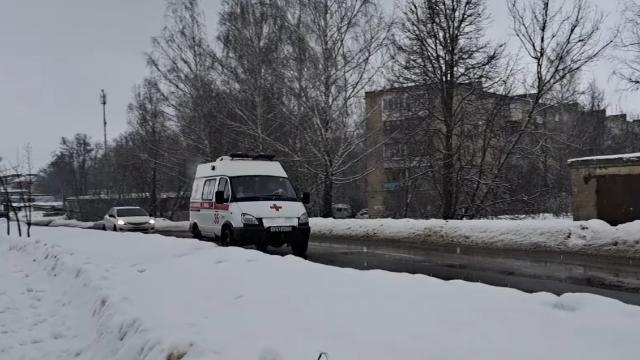ambulance: (188, 153, 312, 258)
non emergency car: (102, 206, 158, 237)
